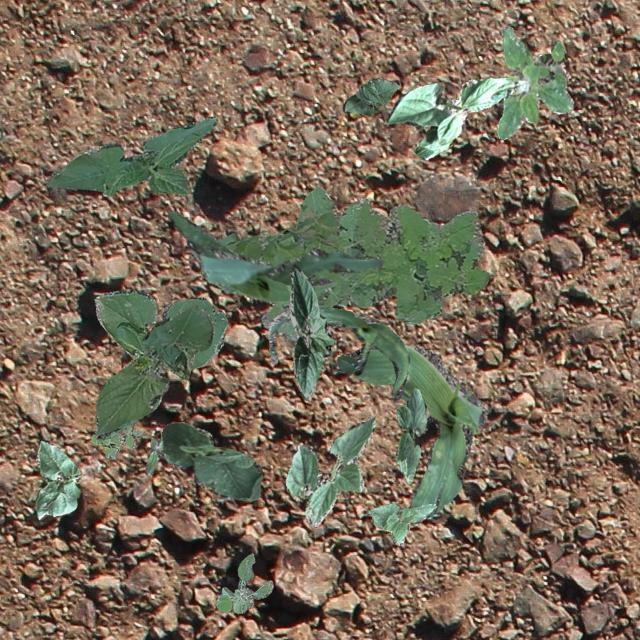crop: (336, 344, 486, 516), (166, 210, 384, 302), (94, 304, 214, 440), (94, 290, 226, 410), (45, 116, 216, 196), (267, 304, 408, 400), (386, 75, 518, 158), (284, 416, 374, 526), (160, 421, 262, 498), (288, 264, 334, 398), (34, 439, 80, 518), (394, 387, 428, 482), (366, 502, 436, 544), (342, 78, 398, 114)
weed: (216, 184, 488, 340), (496, 24, 572, 138), (214, 552, 272, 612), (90, 422, 144, 458), (144, 434, 172, 474), (130, 354, 150, 372)
